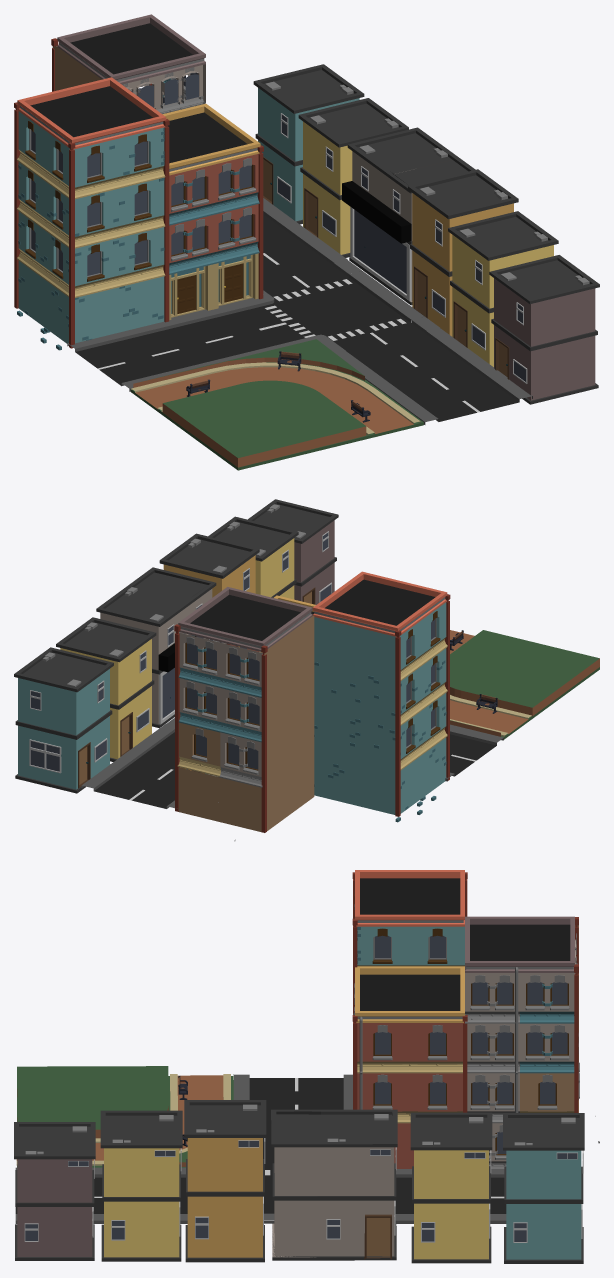
Rendered from SmallTown.gltf.
The picture shows the model from 3 angles, top to bottom: view 1: azimuth 30°, elevation 25°; view 2: azimuth 150°, elevation 25°; view 3: azimuth 270°, elevation 25°; orthographic projection. The views are drawn at different scales.
Parts seen in each view (by area): view 1: building, park road, Cube.005, Cube.002, T juntion, straight road, straight road.001, Cube.003, Cube.004, Cube.001, Cube, straight road.002; view 2: building, Cube, park road, Cube.002, Cube.001, Cube.005, straight road.002, Cube.003, Cube.004, straight road.001; view 3: building, Cube.002, Cube.003, Cube.004, Cube.001, Cube, Cube.005, park road, straight road.001, straight road.002, straight road, T juntion.
Part boxes in pixels (x1,y1,x2,y2): building: [14, 14, 263, 350]; park road: [130, 339, 423, 470]; Cube.005: [489, 255, 599, 404]; Cube.002: [342, 127, 475, 305]; T juntion: [229, 260, 439, 353]; straight road: [336, 328, 532, 424]; straight road.001: [67, 304, 286, 391]; Cube.003: [408, 169, 518, 336]; Cube.004: [448, 211, 558, 366]; Cube.001: [298, 98, 408, 257]; Cube: [253, 64, 364, 224]; straight road.002: [263, 198, 347, 283]; building: [174, 571, 450, 841]; Cube: [14, 647, 113, 793]; park road: [450, 630, 599, 740]; Cube.002: [96, 567, 216, 728]; Cube.001: [56, 617, 156, 761]; Cube.005: [248, 499, 338, 604]; straight road.002: [81, 724, 179, 811]; Cube.003: [159, 533, 259, 647]; Cube.004: [208, 516, 298, 599]; straight road.001: [445, 724, 503, 781]; building: [352, 870, 599, 1168]; Cube.002: [271, 1109, 397, 1260]; Cube.003: [184, 1100, 266, 1262]; Cube.004: [100, 1110, 182, 1261]; Cube.001: [410, 1112, 492, 1263]; Cube: [503, 1113, 584, 1263]; Cube.005: [14, 1122, 95, 1260]; park road: [16, 1066, 233, 1167]; straight road.001: [233, 1074, 352, 1157]; straight road.002: [395, 1169, 506, 1223]; straight road: [15, 1167, 187, 1223]; T juntion: [263, 1157, 274, 1223].
Size of the model in its own units: 45.85 by 26.46 by 62.23.
